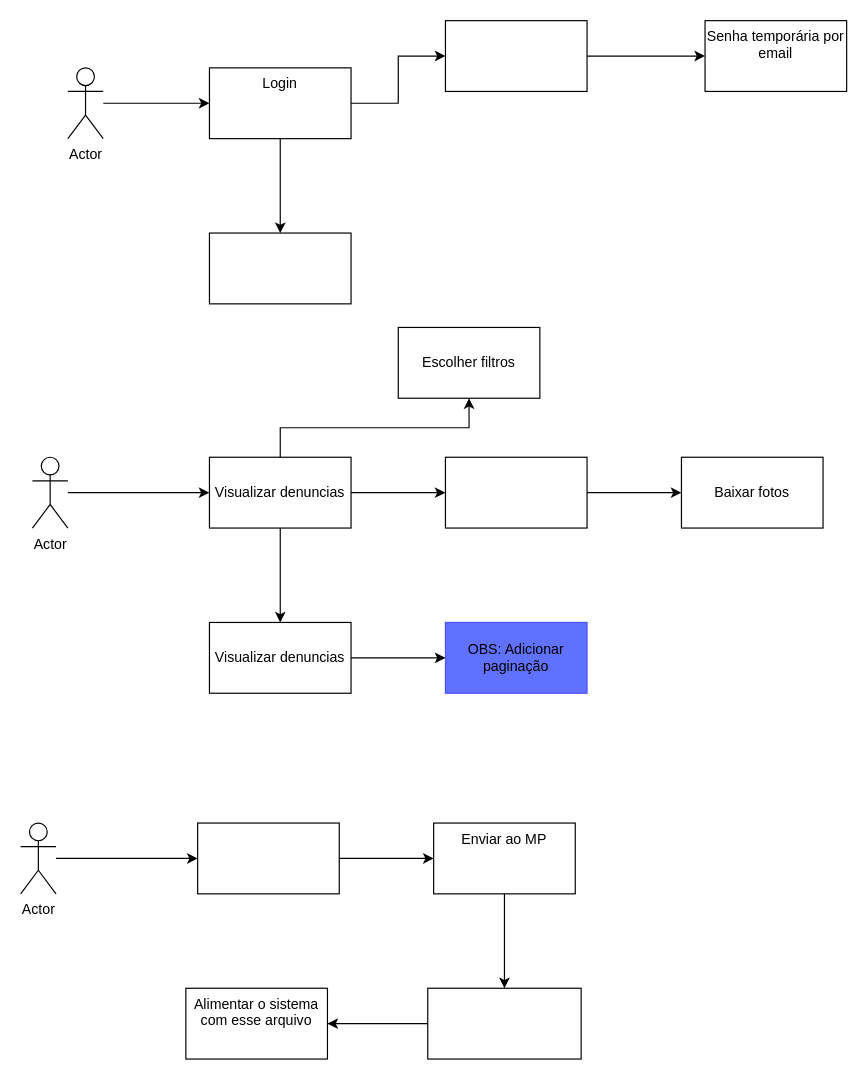
Image size: 867x1080. Some labels were removed from this diagram. The centre of each missing label's shape, as x and y in pixels:
"Baixar extrato de denuncias" belongs at point (267, 858).
"Dashboard" belongs at point (279, 268).
"Editar denuncia" belongs at point (515, 492).
"Esqueceu a senha" belongs at point (515, 55).
"MP retorna arquivo com os status das denuncias atualizados" belongs at point (504, 1023).
